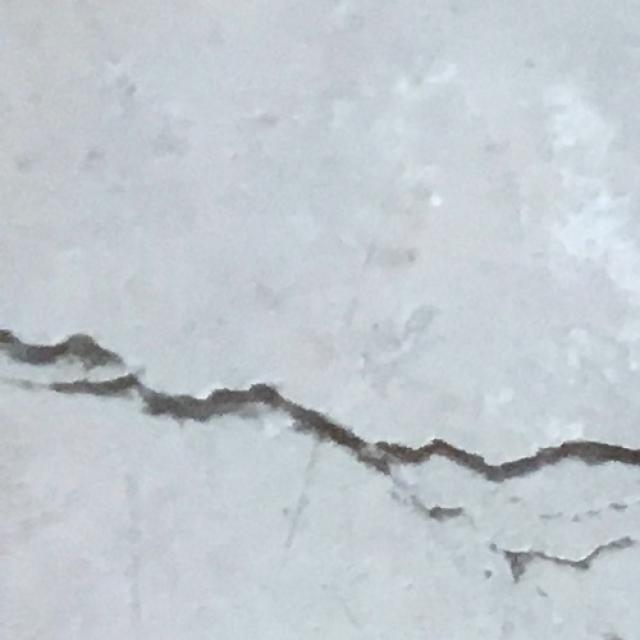multi-branched crack: (0, 286, 640, 593)
